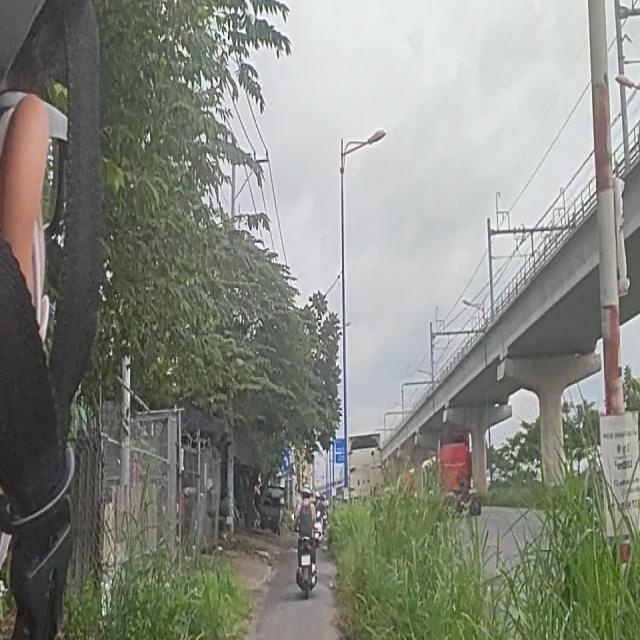I.409: (278, 452, 290, 472)
